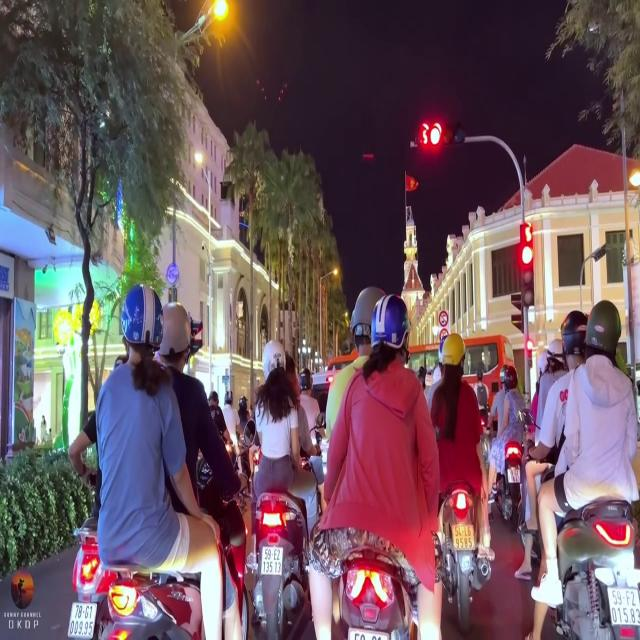bien_trang: (608, 580, 640, 634), (66, 593, 97, 638), (262, 545, 283, 576), (451, 525, 476, 550)
